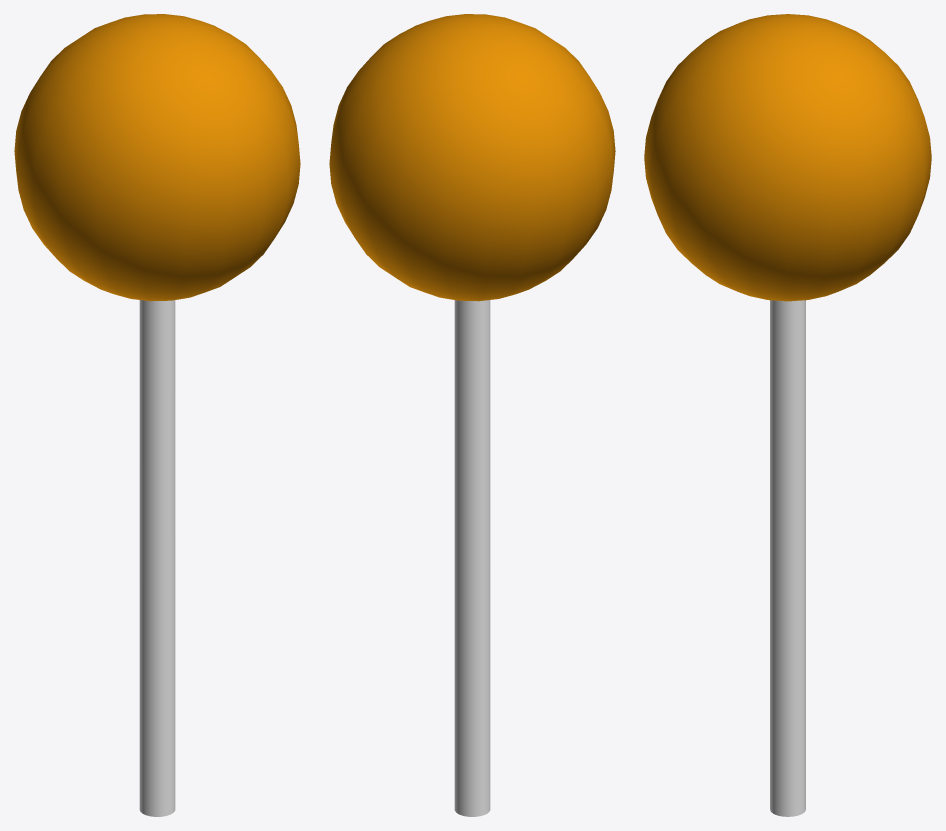
Rendered from pin.glb.
3 views of the same model, side by side, from view 1: azimuth 30°, elevation 25°; view 2: azimuth 150°, elevation 25°; view 3: azimuth 270°, elevation 25° (orthographic).
Visible parts, largest first — view 1: Sphere, Cylinder; view 2: Sphere, Cylinder; view 3: Sphere, Cylinder.
Part boxes in pixels (x1,y1,x2,y2): Sphere: (14, 14, 300, 301); Cylinder: (139, 300, 175, 816); Sphere: (329, 14, 615, 301); Cylinder: (454, 300, 490, 816); Sphere: (644, 14, 931, 301); Cylinder: (770, 300, 805, 816).
Bounding box in the file's own units: 0.8 × 2.4 × 0.8.
